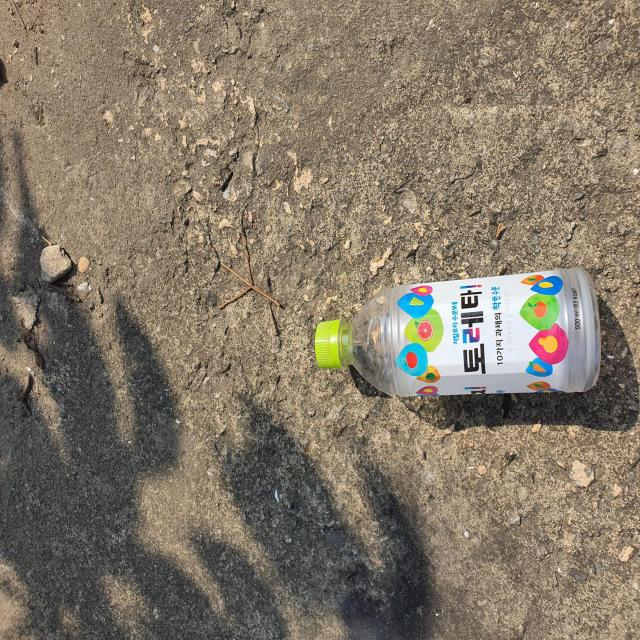plastic: (315, 268, 602, 397)
